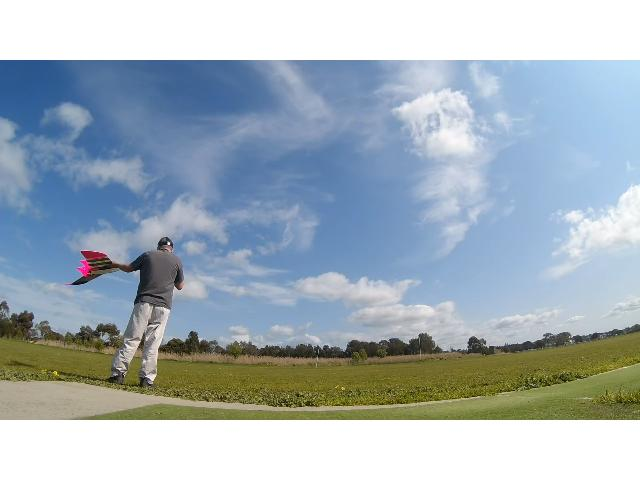Anti-Drone: (58, 236, 138, 296)
